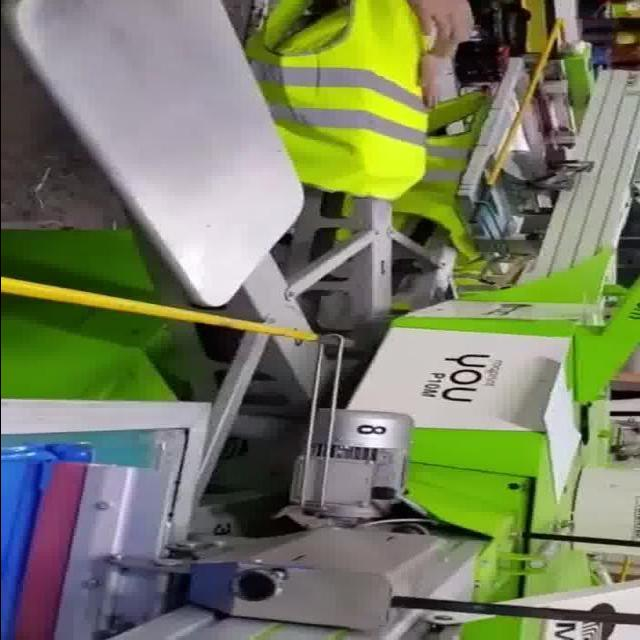vest: (243, 0, 428, 200)
